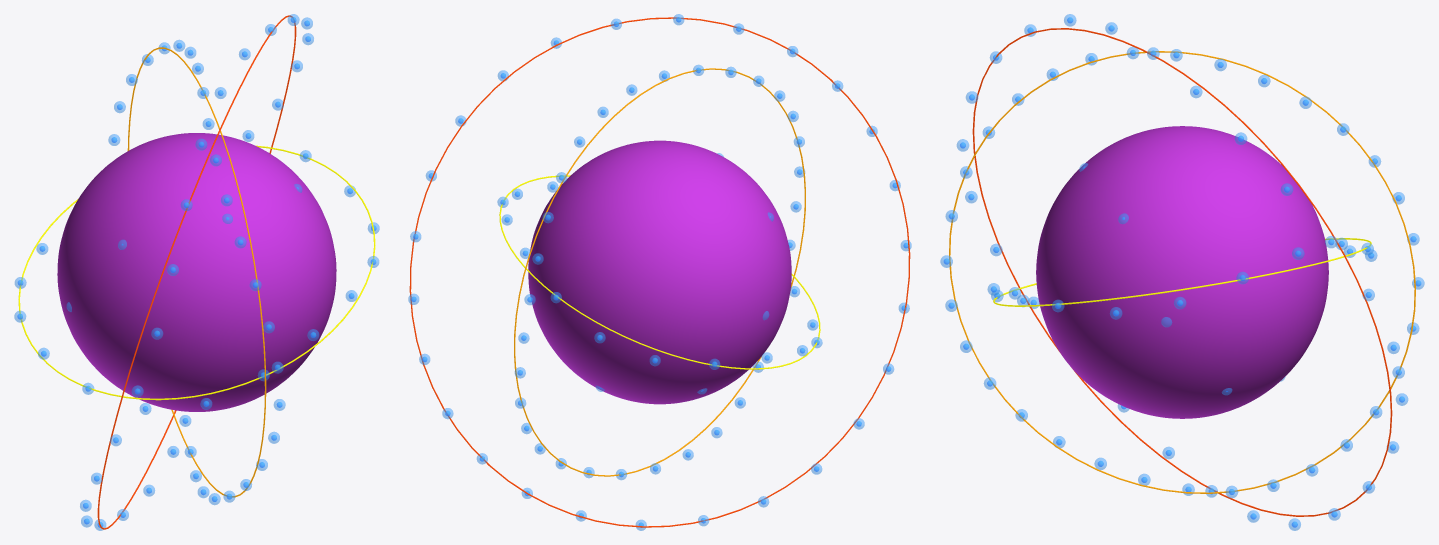
The picture shows the model from 3 angles, left to right: view 1: azimuth 30°, elevation 25°; view 2: azimuth 150°, elevation 25°; view 3: azimuth 270°, elevation 25°; orthographic projection. The views are drawn at different scales.
Parts seen in each view (by area): view 1: Rn, object 126, object 24, object 61; view 2: Rn, object 126, object 61, object 24; view 3: Rn, object 61, object 126, object 24.
Boxes of the visible parts, x1,y1,x2,y2 form: Rn: (57, 133, 336, 411); object 126: (97, 15, 296, 529); object 24: (18, 145, 375, 400); object 61: (127, 47, 266, 497); Rn: (528, 140, 791, 404); object 126: (409, 17, 910, 527); object 61: (514, 68, 805, 476); object 24: (499, 175, 820, 369); Rn: (1036, 126, 1328, 418); object 61: (949, 51, 1415, 493); object 126: (972, 28, 1392, 516); object 24: (993, 238, 1371, 306).
Size of the model in its own units: 5.37 by 7.13 by 6.09.
